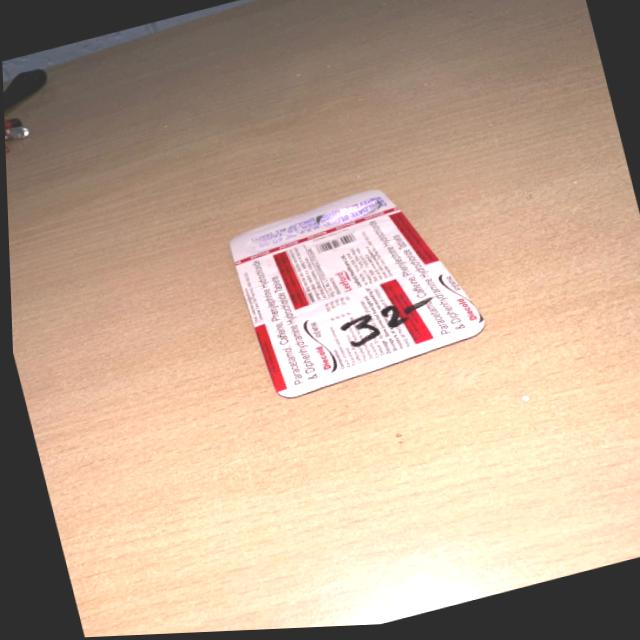medicine: (213, 177, 494, 410)
